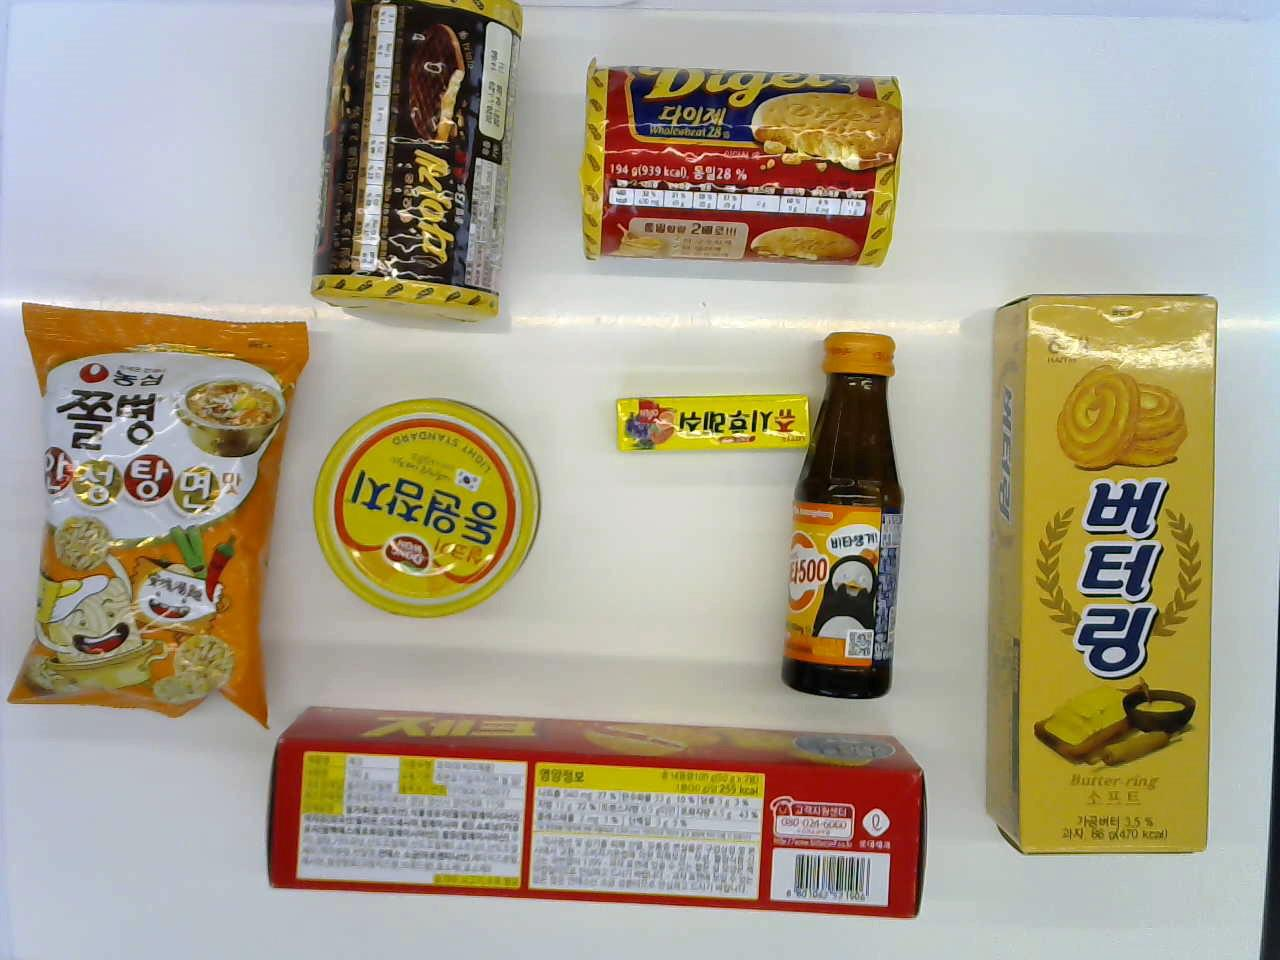buttering: (985, 288, 1226, 863)
diget_choco: (313, 0, 530, 331)
diget_ori: (575, 48, 904, 289)
jjolbyung_noodle: (18, 301, 299, 716)
juicyfresh: (609, 381, 813, 455)
tuna: (313, 396, 541, 619)
vita500: (784, 325, 920, 700)
zec: (261, 703, 930, 931)
